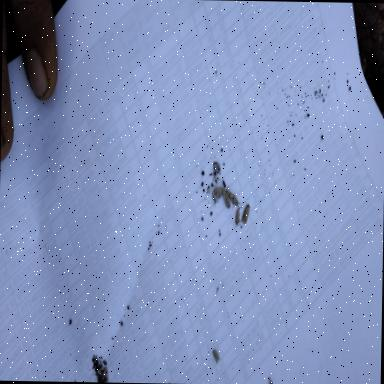pbw: (226, 190, 243, 212), (242, 203, 252, 224), (223, 188, 232, 208), (236, 207, 243, 226), (213, 350, 220, 364), (214, 188, 224, 196)
